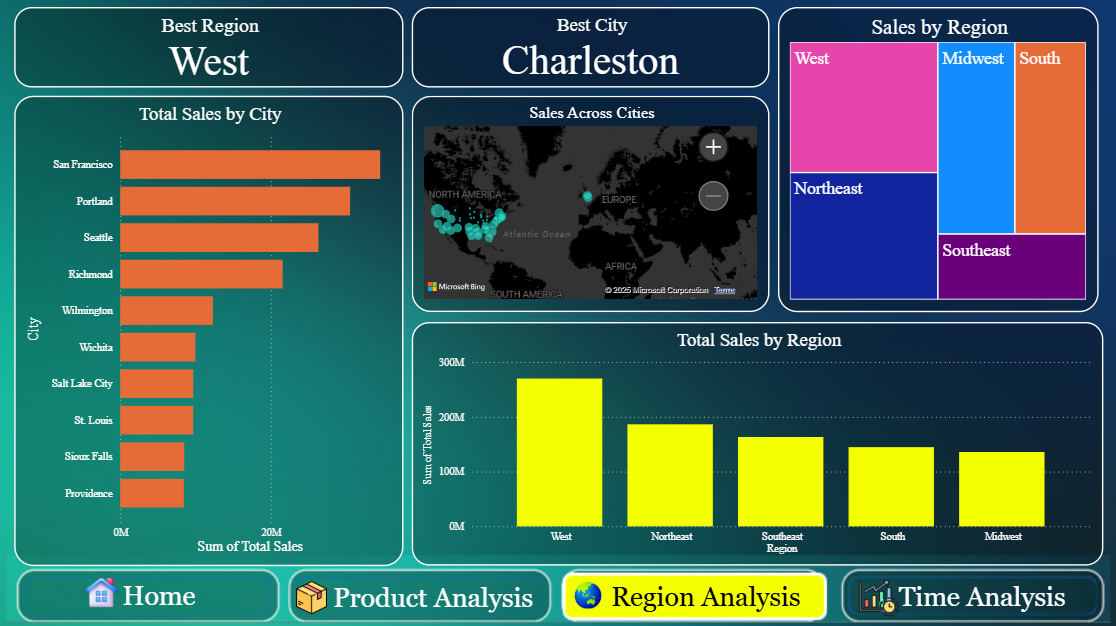

The dashboard page shown, as its layout file describes it:
{"tool":"powerbi","page":{"name":"Region Analysis","canvas":[1280,720],"ordinal":2},"visuals":[{"type":"map","title":"Sales Across Cities","fields":{"Category":["Data Sales Adidas.City"],"Size":["CountNonNull(Data Sales Adidas.City)"]},"box":[473.4,112.5,408.9,247],"z":0},{"type":"treemap","title":"Sales by Region","fields":{"Details":["Data Sales Adidas.Region"],"Values":["CountNonNull(Data Sales Adidas.Region)"]},"box":[891.9,11,366.4,348.5],"z":1000},{"type":"card","title":"Best Region","fields":{"Values":["Data Sales Adidas.Best Region"]},"box":[19.2,11,444.6,91.9],"z":2000},{"type":"card","title":"Best City","fields":{"Values":["Data Sales Adidas.Best City"]},"box":[473.4,11,408.9,91.9],"z":3000},{"type":"image","box":[0,632.9,1280,87.1],"z":4000},{"type":"clusteredBarChart","title":"Total Sales by City","fields":{"Y":["Sum(Data Sales Adidas.Total Sales)"],"Category":["Data Sales Adidas.City"]},"box":[19.2,112.5,444.6,537.9],"z":5000},{"type":"lineStackedColumnComboChart","title":"Total Sales by Region","fields":{"Y":["Sum(Data Sales Adidas.Total Sales)"],"Category":["Data Sales Adidas.Region"]},"box":[473.4,371.9,790.4,278.6],"z":6000},{"type":"image","box":[651.4,655.7,45.7,57.1],"z":7000},{"type":"image","box":[330,662.9,57.1,47.1],"z":8000},{"type":"image","box":[974.3,658.6,64.3,57.1],"z":9000},{"type":"actionButton","box":[958.6,655.7,304.3,60],"z":10000},{"type":"actionButton","box":[640,655.7,310,60],"z":11000},{"type":"actionButton","box":[330,652.9,298.6,67.1],"z":12000},{"type":"image","box":[85.7,657.1,64.3,47.1],"z":13000},{"type":"actionButton","box":[20,654.3,300,58.6],"z":14000}]}

Visuals, with their boxes in screenshot pixels (x1, y1, x2, y2), scaled from the page's 1280x720 canvas onto the 1116x626 screenshot:
"Sales Across Cities" map: rect(413, 98, 769, 313)
"Sales by Region" treemap: rect(778, 10, 1097, 313)
"Best Region" card: rect(17, 10, 404, 89)
"Best City" card: rect(413, 10, 769, 89)
image: rect(0, 550, 1115, 625)
"Total Sales by City" clusteredBarChart: rect(17, 98, 404, 565)
"Total Sales by Region" lineStackedColumnComboChart: rect(413, 323, 1102, 566)
image: rect(568, 570, 608, 620)
image: rect(288, 576, 338, 617)
image: rect(849, 573, 906, 622)
actionButton: rect(836, 570, 1101, 622)
actionButton: rect(558, 570, 828, 622)
actionButton: rect(288, 568, 548, 625)
image: rect(75, 571, 131, 612)
actionButton: rect(17, 569, 279, 620)
